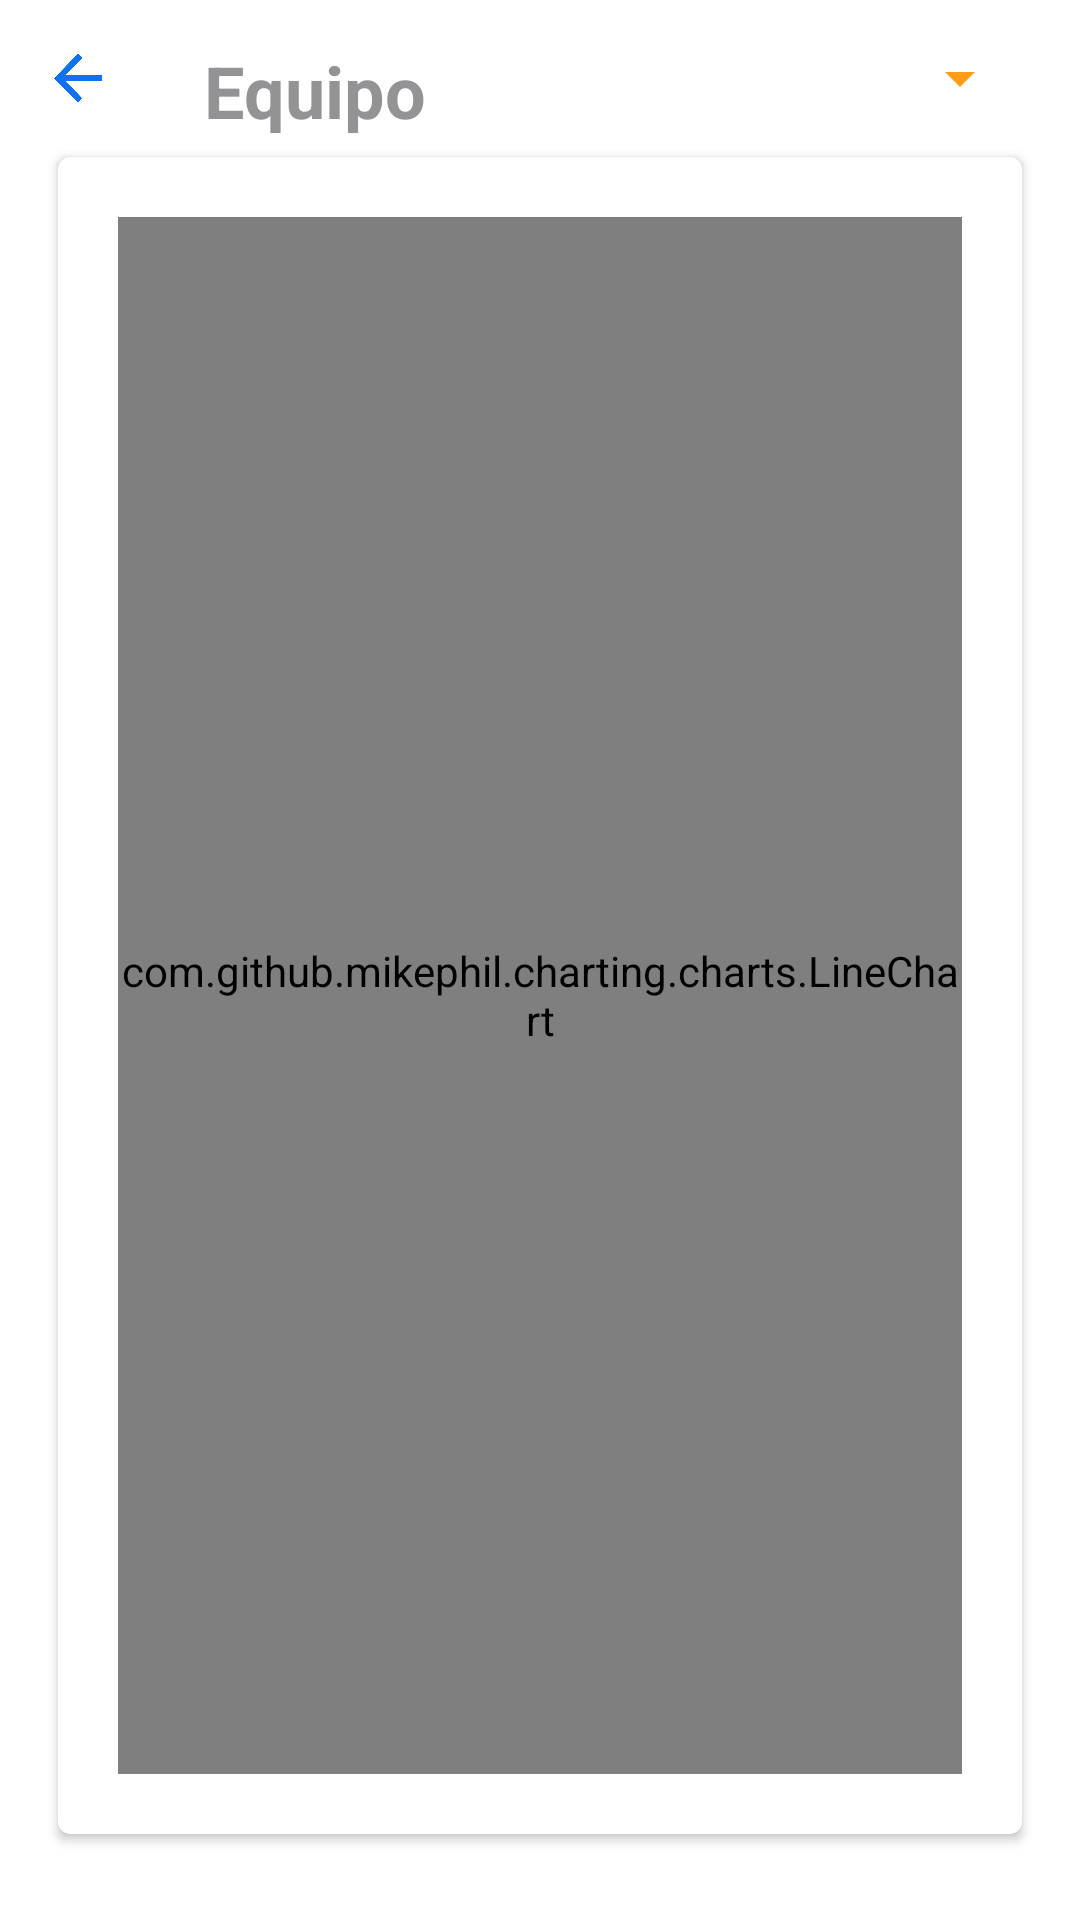

Icons on this 1080w x 1920h Android screen, each with the point to tap as [x,y]:
left arrow: [78,78]
